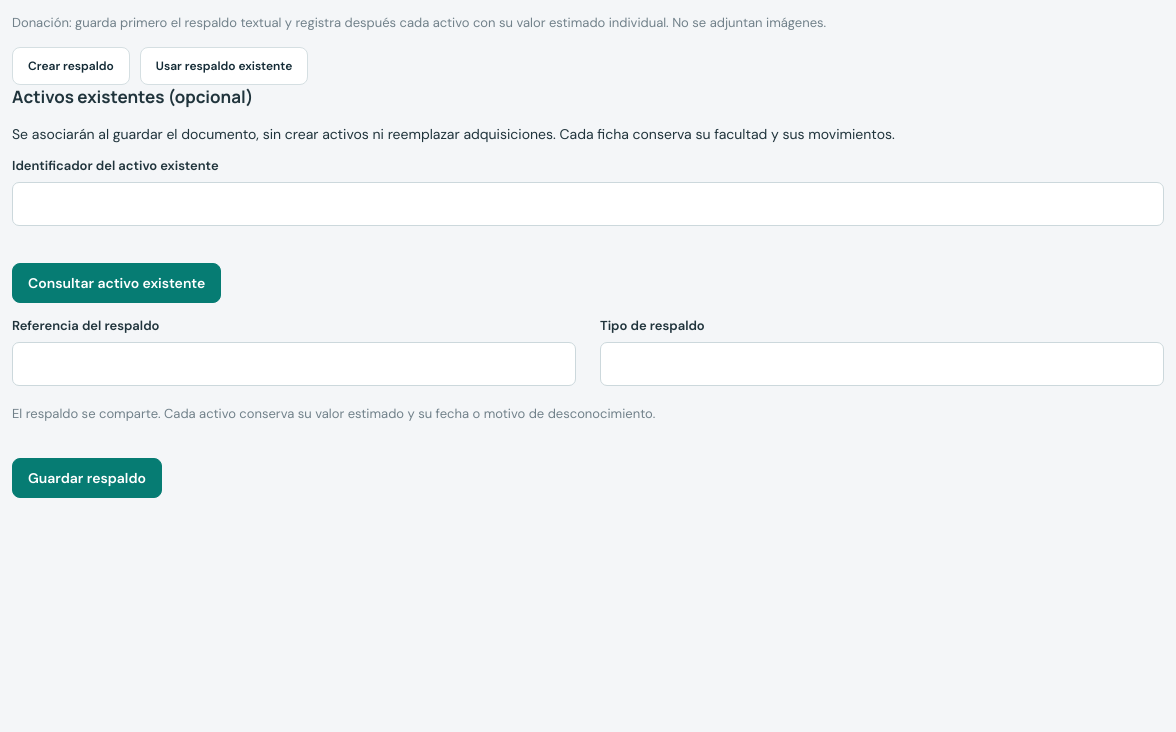
error incierto del respaldo conserva la entrada y no reintenta
Type "TEST-ACTA" into the field labelled "Referencia del respaldo" at point(294, 364), box left=12, top=342, right=576, bottom=386
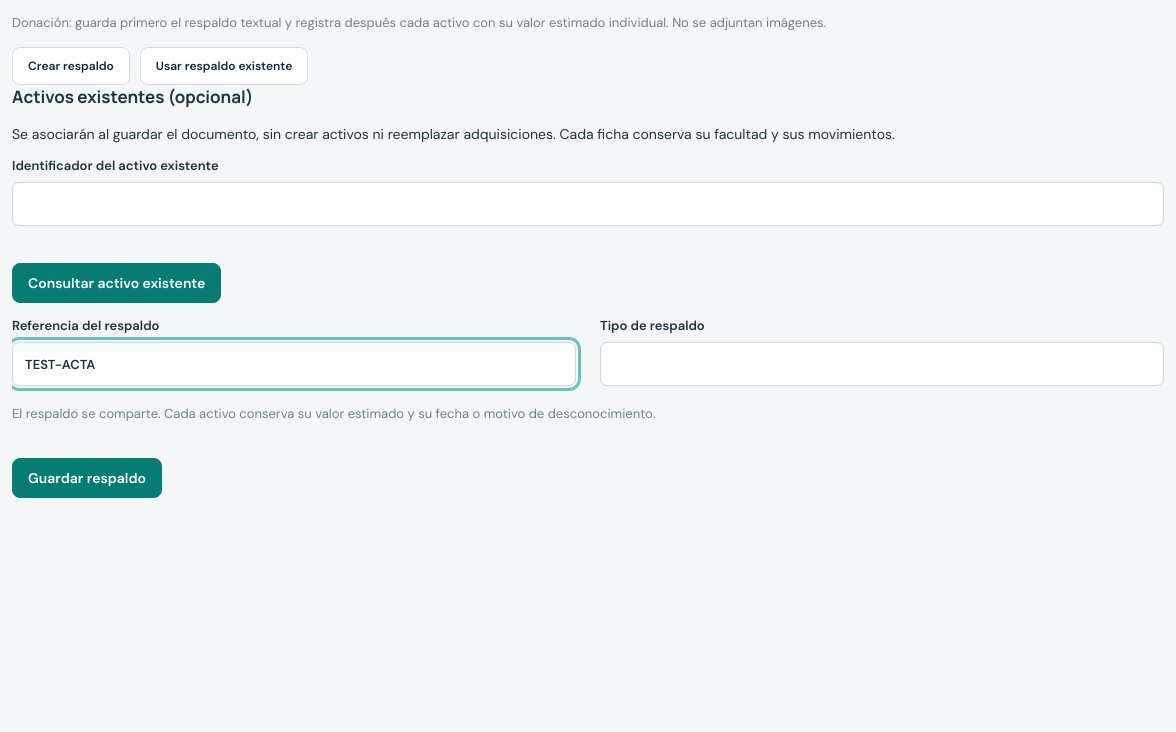
Type "Acta ficticia" into the field labelled "Tipo de respaldo" at point(882, 364), box left=600, top=342, right=1164, bottom=386
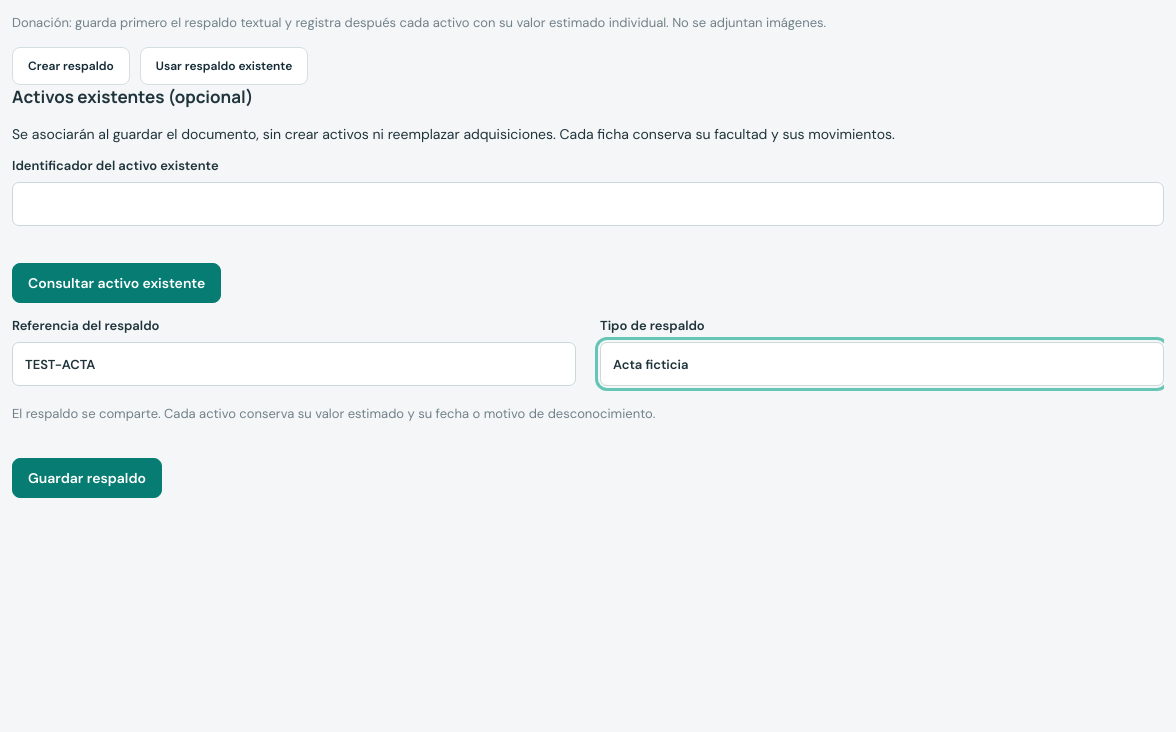
Click the button "Guardar respaldo" at point(87, 478), box left=12, top=458, right=162, bottom=498
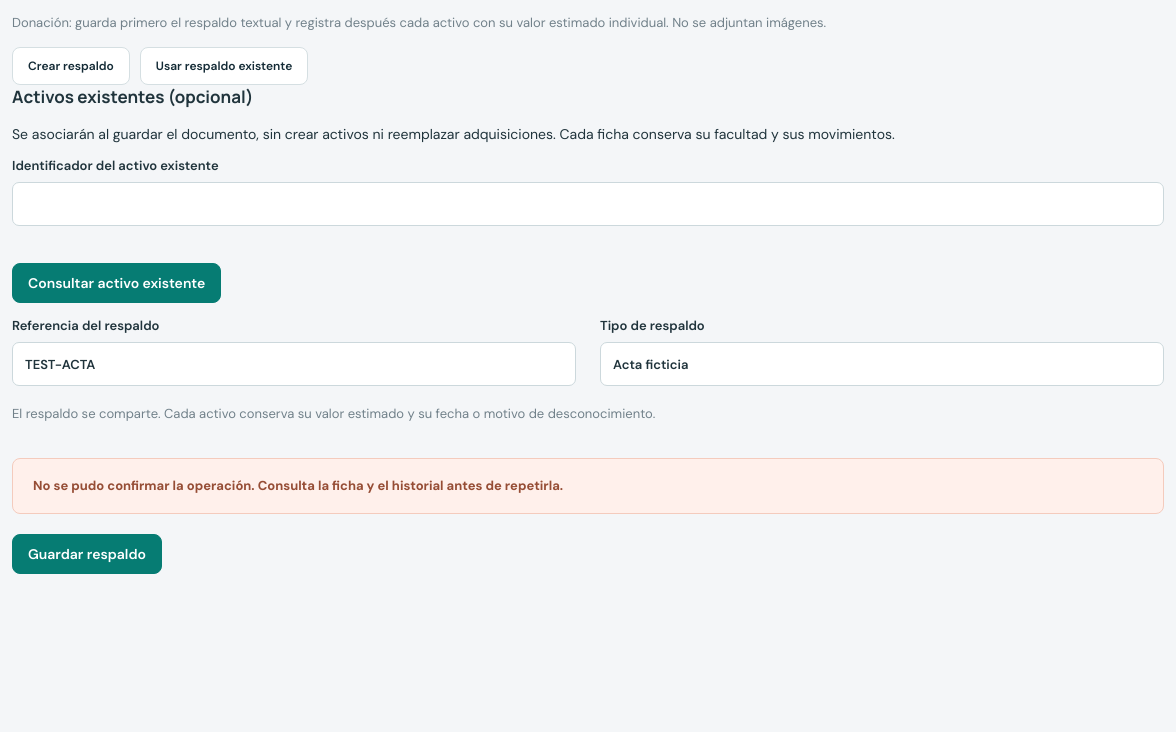
expect the message shows "No se pudo confirmar": met, box left=33, top=477, right=563, bottom=494
